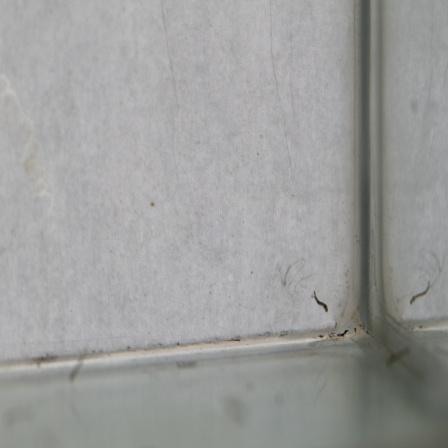Jentik-Nyamuk: (309, 286, 331, 316)
